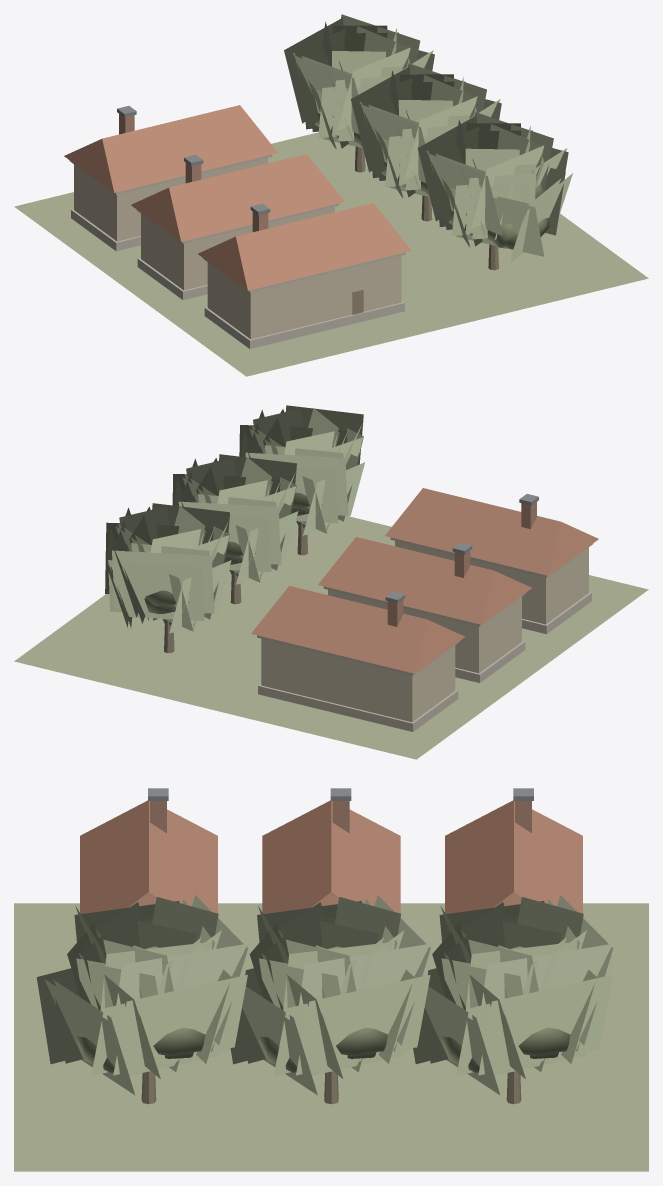
3 renders of one model, top to bottom at view 1: azimuth 30°, elevation 25°; view 2: azimuth 150°, elevation 25°; view 3: azimuth 270°, elevation 25°, orthographic. The views are drawn at different scales.
Parts seen in each view (by area): view 1: Near, Mid; view 2: Near, Mid; view 3: Near, Mid.
Boxes of the visible parts, x1,y1,x2,y2 form: Near: (14,21,648,376); Mid: (284,14,572,262); Near: (14,405,648,759); Mid: (105,409,365,633); Near: (14,788,648,1171); Mid: (36,895,614,1095).
Size of the model in its own units: 4 by 1.26 by 4.
